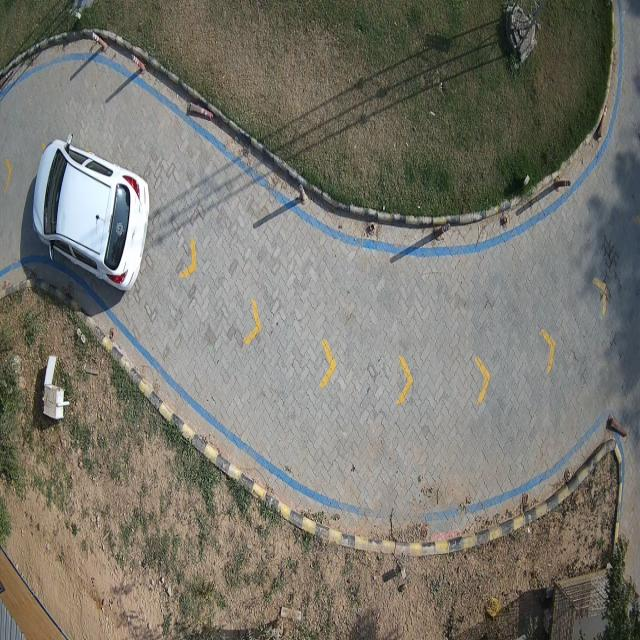car: (27, 140, 150, 292)
